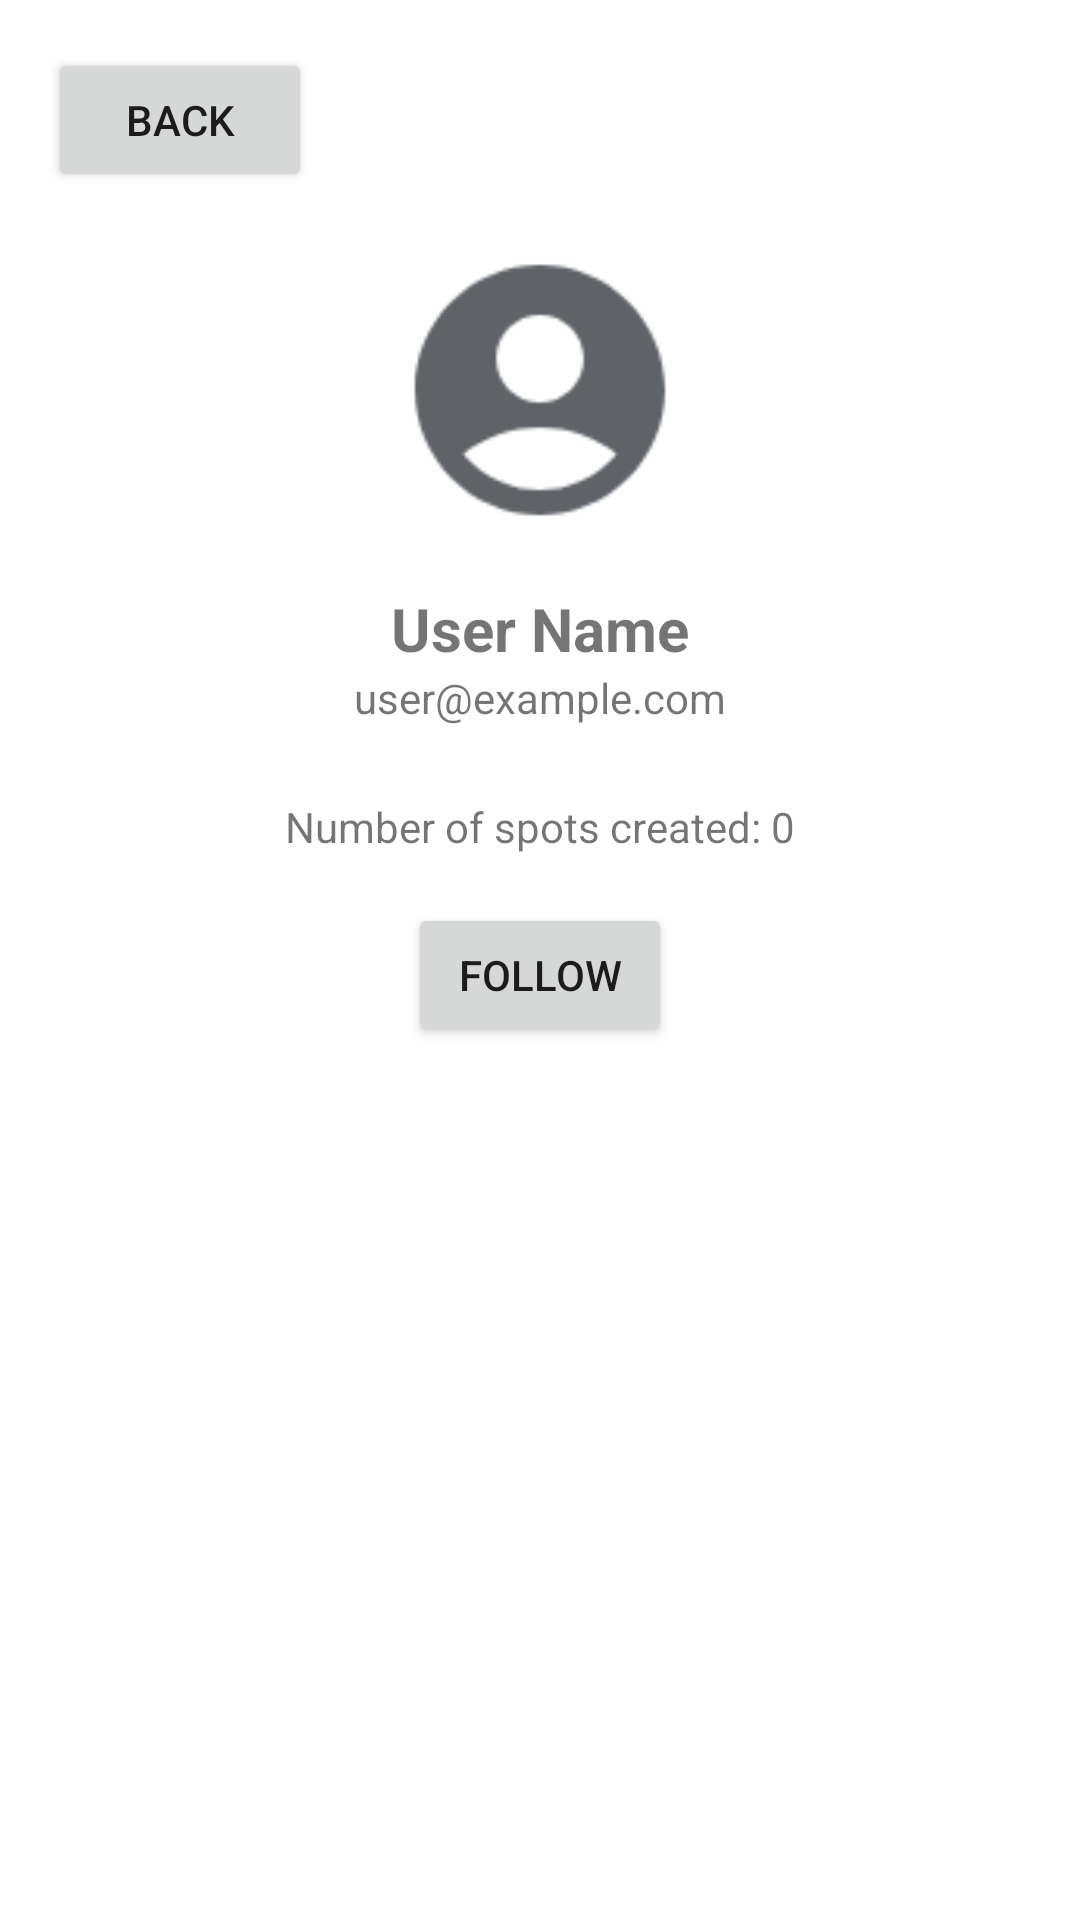

Screen size 1080w x 1920h. Icon name, then its box in pixels as bbox=(x1, y1, x2, y2):
account circle: bbox=(414, 264, 666, 516)
